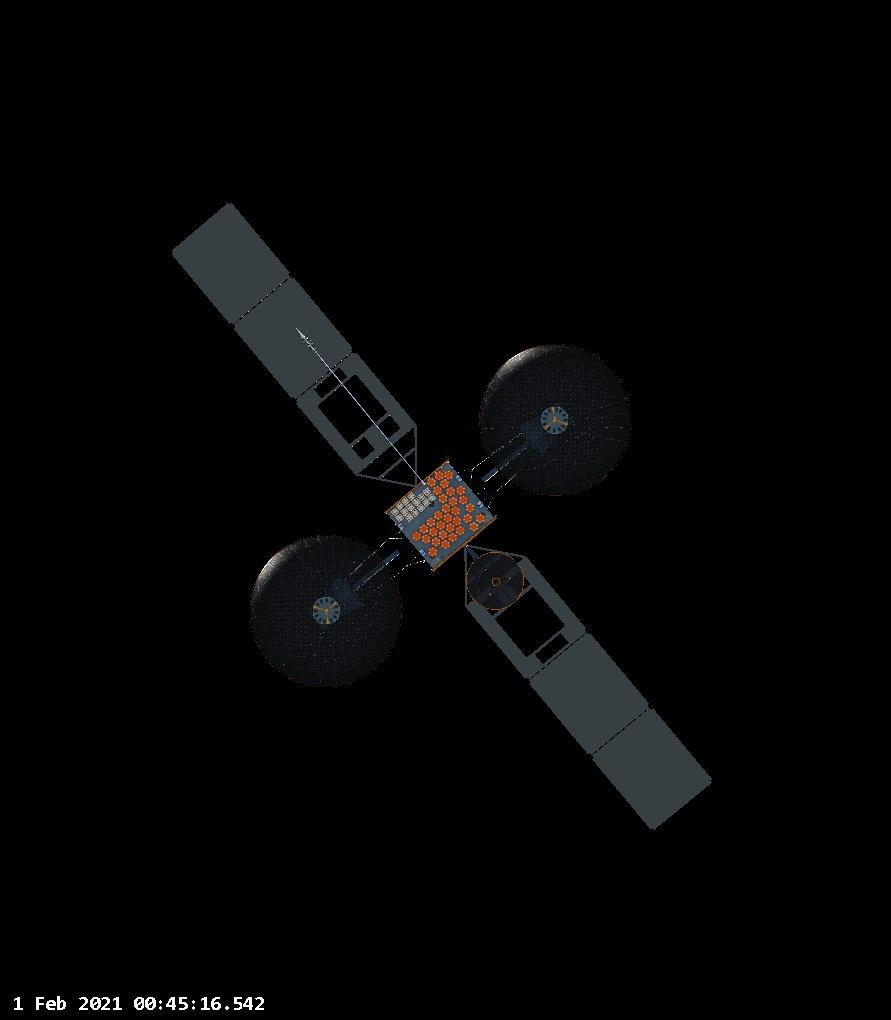antenna: (237, 523, 417, 700), (467, 333, 641, 507), (467, 549, 525, 611)
body: (382, 459, 498, 573)
solar: (456, 531, 720, 840), (166, 196, 432, 492)
